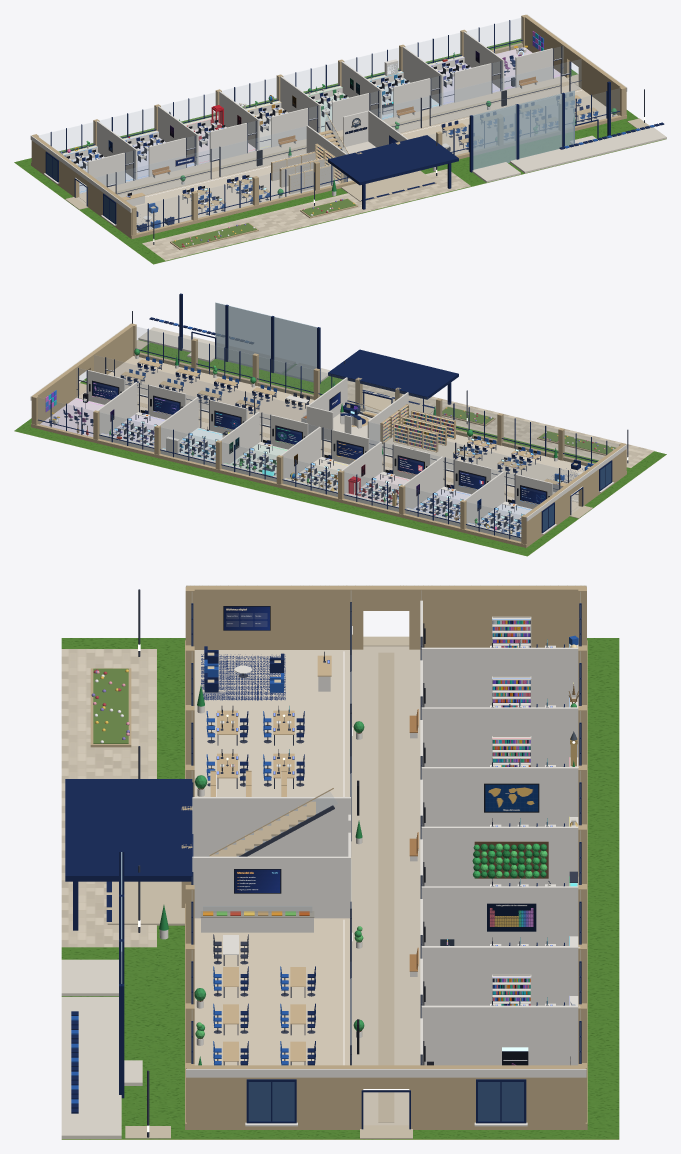
File: principal-interior.glb
3 renders of one model, top to bottom at view 1: azimuth 30°, elevation 25°; view 2: azimuth 150°, elevation 25°; view 3: azimuth 270°, elevation 25°, orthographic. The views are drawn at different scales.
Parts seen in each view (by area): view 1: mate-f7f4ee, vidrio-cfe0ea, vidrio-cfe6ff, MeshStandardMaterial-tex (×2), mate-cdb894, vidrioT-b9d3e2, mate-ddd3c2, brillo-14285a, metal-14285a, brillo-f7f4ee, mate-e9dfcf, mate-ece6da (+18 smaller); view 2: vidrio-cfe0ea, mate-f7f4ee, MeshStandardMaterial-tex (×2), mate-cdb894, vidrio-cfe6ff, brillo-f7f4ee, vidrioT-b9d3e2, brillo-14285a, metal-14285a, brillo-cdb894, mate-e7dac6, metal-3a4256 (+19 smaller); view 3: mate-f7f4ee, MeshStandardMaterial-tex (×4), mate-cdb894, mate-ddd3c2, mate-e7dac6, mate-e9dfcf, brillo-14285a, mate-ece6da, brillo-f7f4ee, mate-cfc3ad, brillo-dcc39c, metal-14285a (+12 smaller).
Boxes of the visible parts, x1,y1,x2,y2 form: mate-f7f4ee: [87, 31, 552, 187]; vidrio-cfe0ea: [39, 18, 619, 232]; vidrio-cfe6ff: [78, 46, 580, 196]; MeshStandardMaterial-tex (×2): [14, 38, 666, 264]; mate-cdb894: [31, 14, 626, 250]; vidrioT-b9d3e2: [472, 90, 574, 169]; mate-ddd3c2: [76, 76, 581, 205]; brillo-14285a: [75, 48, 664, 203]; metal-14285a: [45, 20, 620, 230]; brillo-f7f4ee: [30, 14, 627, 225]; mate-e9dfcf: [135, 165, 339, 232]; mate-ece6da: [342, 127, 666, 182]; vidrio-cfe0ea: [38, 326, 618, 541]; mate-f7f4ee: [87, 370, 552, 523]; MeshStandardMaterial-tex (×2): [14, 340, 666, 556]; mate-cdb894: [31, 323, 626, 546]; vidrio-cfe6ff: [77, 355, 579, 501]; brillo-f7f4ee: [30, 323, 627, 541]; vidrioT-b9d3e2: [215, 302, 317, 382]; brillo-14285a: [49, 317, 532, 534]; metal-14285a: [38, 293, 612, 539]; brillo-cdb894: [31, 352, 626, 547]; mate-e7dac6: [108, 356, 314, 425]; metal-3a4256: [49, 311, 628, 533]; mate-f7f4ee: [192, 600, 580, 1065]; MeshStandardMaterial-tex (×4): [61, 638, 619, 1139]; mate-cdb894: [90, 585, 586, 1129]; mate-ddd3c2: [351, 646, 420, 1125]; mate-e7dac6: [194, 918, 349, 1065]; mate-e9dfcf: [194, 650, 349, 796]; brillo-14285a: [65, 644, 564, 1113]; mate-ece6da: [61, 959, 142, 1138]; brillo-f7f4ee: [159, 585, 586, 1126]; mate-cfc3ad: [378, 652, 394, 1122]; brillo-dcc39c: [209, 655, 331, 1061]; metal-14285a: [73, 603, 581, 1129].
Size of the model in its own units: 67.2 by 7.4 by 31.6.
Materials: 190 (43 with a texture image).
